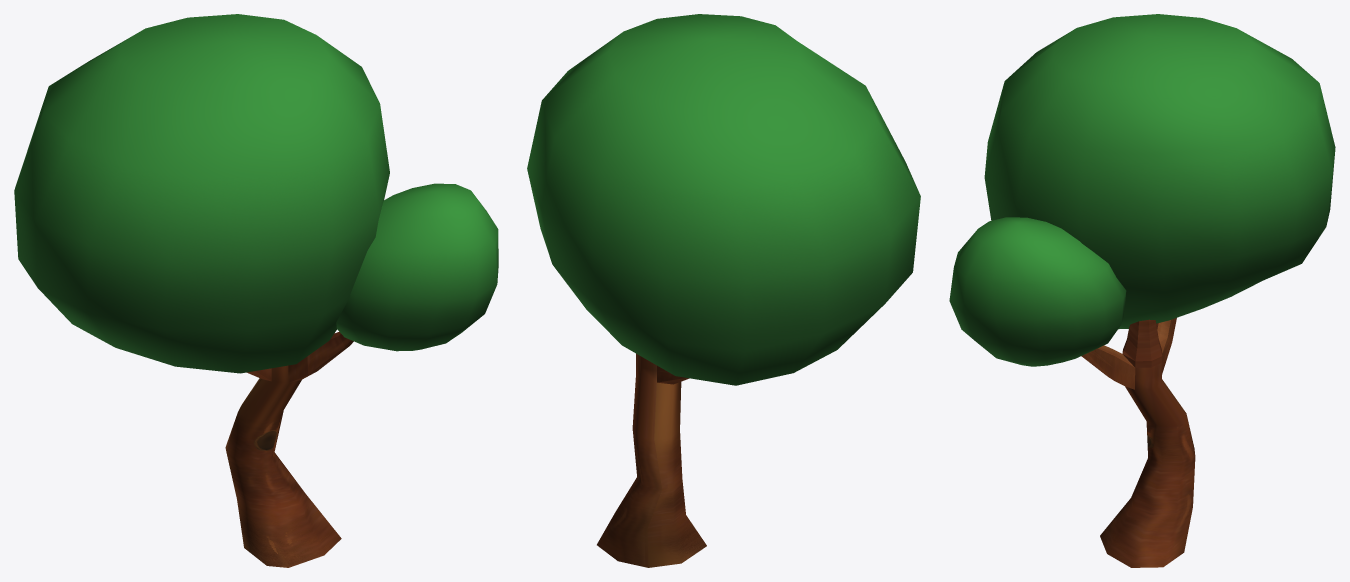
The model's file is Large tree.fbx.
3 views of the same model, side by side, from view 1: azimuth 30°, elevation 25°; view 2: azimuth 150°, elevation 25°; view 3: azimuth 270°, elevation 25° (orthographic). The views are drawn at different scales.
Parts seen in each view (by area): view 1: Cylinder013; view 2: Cylinder013; view 3: Cylinder013.
Part boxes in pixels (x1,y1,x2,y2): Cylinder013: (14,14,498,567); Cylinder013: (527,14,920,567); Cylinder013: (949,14,1335,567).
Size of the model in its own units: 34.5 by 44.54 by 32.13.
